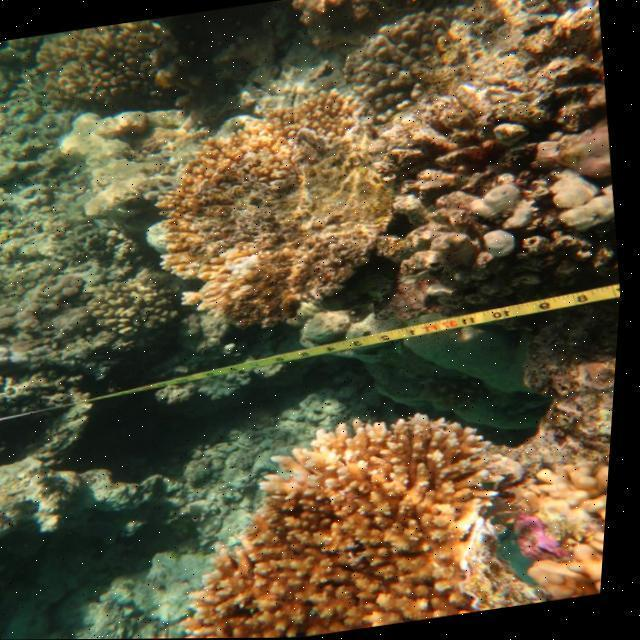Healthy Coral: (160, 384, 528, 639), (505, 454, 616, 606)
